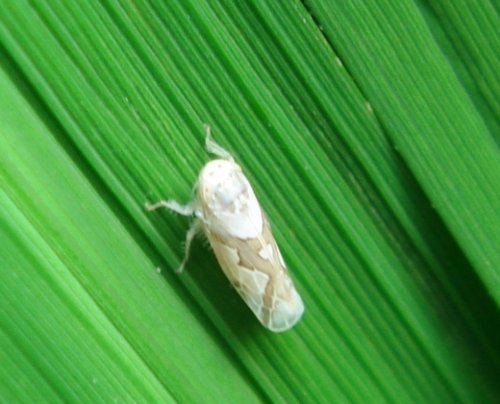Cicadellidae: (144, 128, 305, 331)
